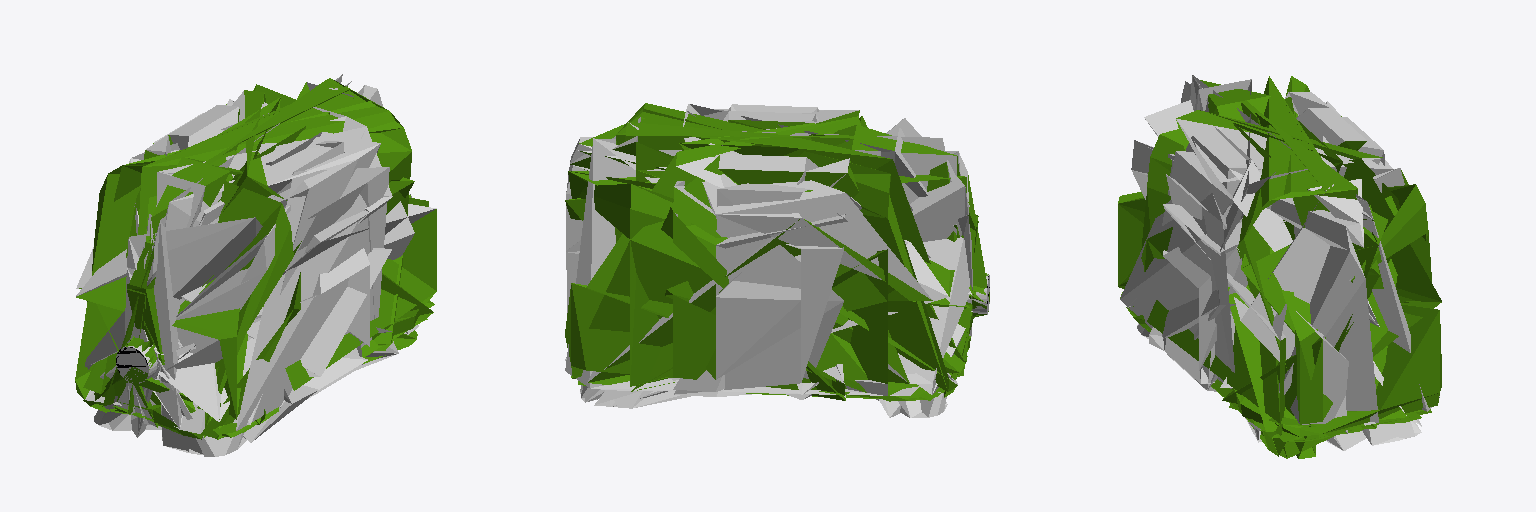
Rendered from Toaster.obj.
The picture shows the model from 3 angles: view 1: azimuth 30°, elevation 25°; view 2: azimuth 150°, elevation 25°; view 3: azimuth 270°, elevation 25°; orthographic projection.
Visible parts, largest first — view 1: Box003, Cylinder003; view 2: Box003; view 3: Box003.
Part boxes in pixels (x1,y1,x2,y2): Box003: (75, 74, 436, 456); Cylinder003: (116, 345, 156, 382); Box003: (565, 103, 989, 417); Box003: (1118, 75, 1441, 458).
Size of the model in its own units: 1637994 by 1046109 by 1262701.